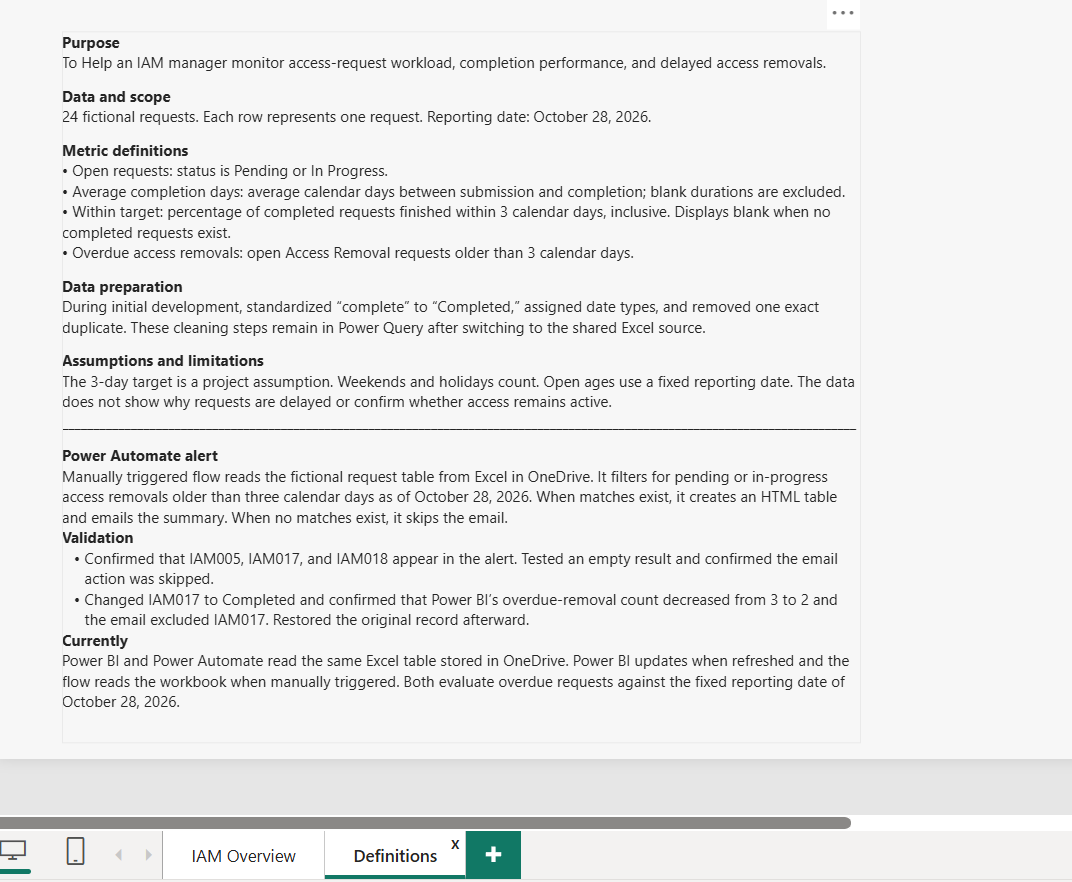

The dashboard page shown, as its layout file describes it:
{"tool":"powerbi","page":{"name":"Definitions","canvas":[1920,1080],"ordinal":1},"visuals":[{"type":"textbox","box":[93.3,23.3,1243.3,1056.7],"z":0}]}

Visuals, with their boxes on the page's 1920x1080 design canvas (x1, y1, x2, y2). These are canvas units, not pixel positions in the 1072x882 screenshot, which may show the page scaled, cropped or inside an application window:
textbox: [93, 23, 1337, 1080]
